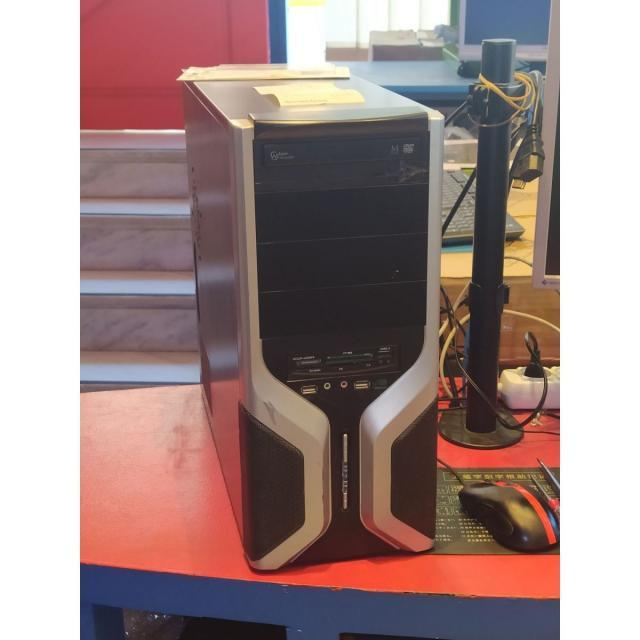Desktop-PC: (178, 45, 454, 573)
